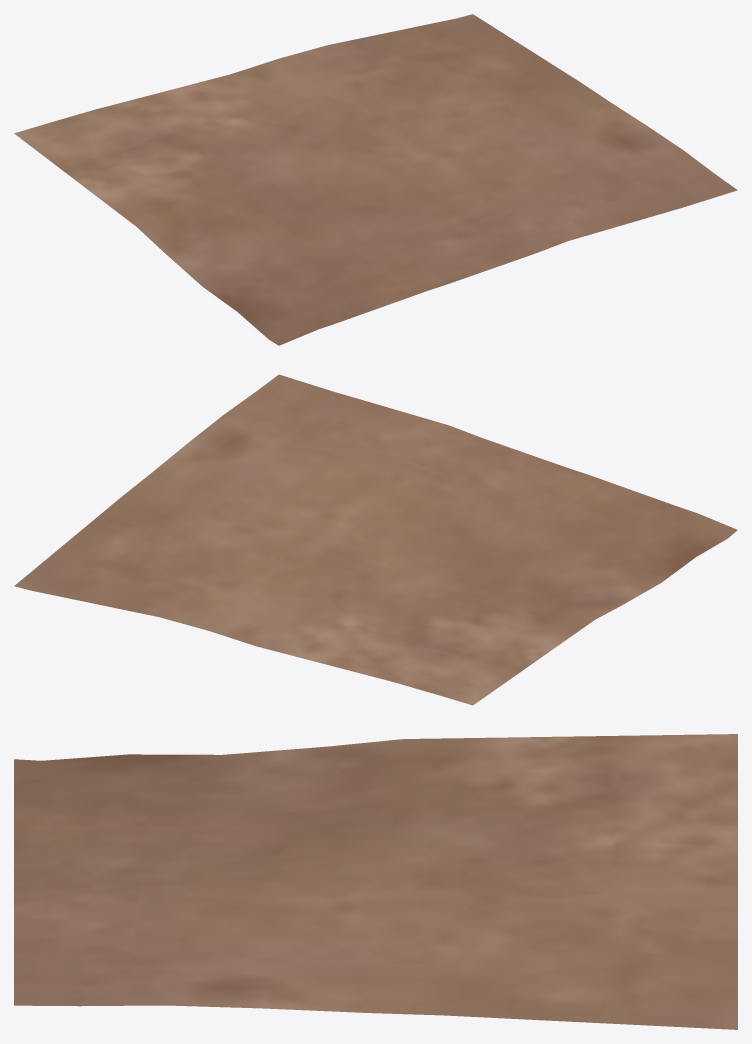
The picture shows the model from 3 angles, top to bottom: view 1: azimuth 30°, elevation 25°; view 2: azimuth 150°, elevation 25°; view 3: azimuth 270°, elevation 25°; orthographic projection. The views are drawn at different scales.
Bounding box in the file's own units: 32 × 2.99 × 32.
1 material, 1 textured.
